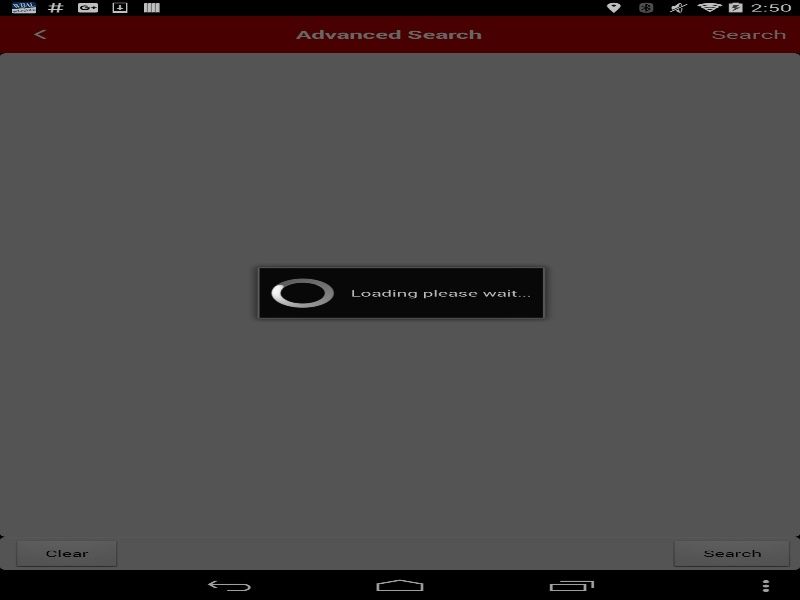Button: (669, 540, 794, 570), (12, 540, 122, 570), (658, 72, 725, 103), (728, 72, 794, 103), (8, 75, 74, 100), (711, 26, 786, 41)
Input: (77, 72, 293, 103)
